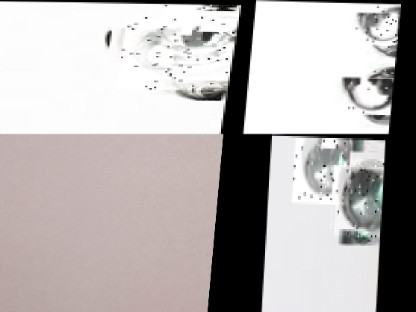ironball: (118, 15, 239, 88), (292, 135, 352, 202), (334, 154, 384, 234), (343, 66, 396, 120), (354, 3, 401, 48), (160, 2, 218, 21), (203, 11, 240, 39)
